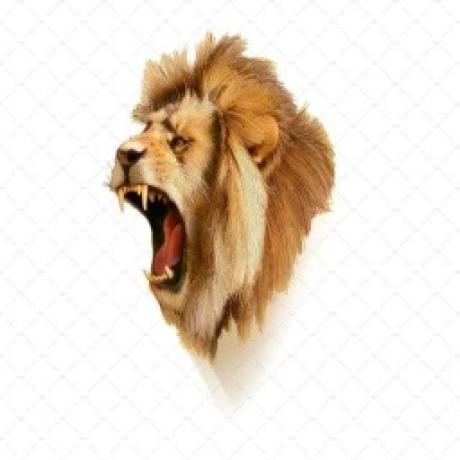Lion: (107, 29, 334, 363)
